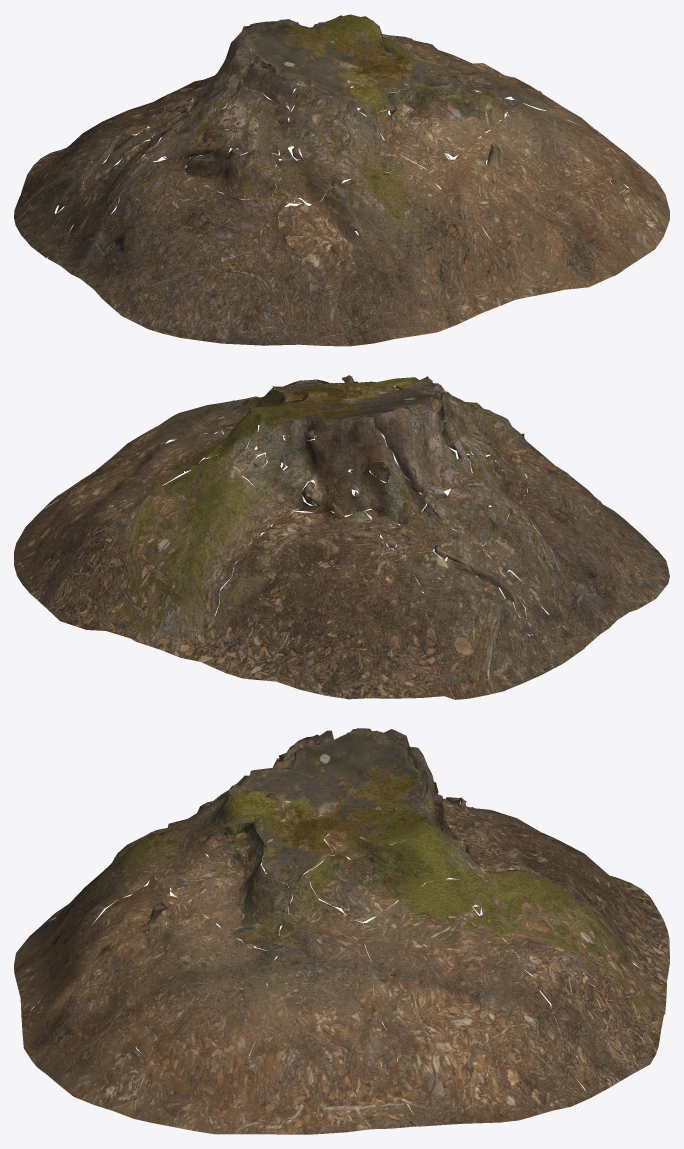
The model's file is tree_stump_02_low.glb.
3 renders of one model, top to bottom at view 1: azimuth 30°, elevation 25°; view 2: azimuth 150°, elevation 25°; view 3: azimuth 270°, elevation 25°, orthographic. The views are drawn at different scales.
Parts seen in each view (by area): view 1: tree_stump_02; view 2: tree_stump_02; view 3: tree_stump_02.
Boxes of the visible parts, x1,y1,x2,y2 form: tree_stump_02: (14, 14, 669, 346); tree_stump_02: (14, 375, 669, 699); tree_stump_02: (14, 728, 669, 1134).
Size of the model in its own units: 1.52 by 0.5226 by 1.39.
Materials: 1 (1 with a texture image).
